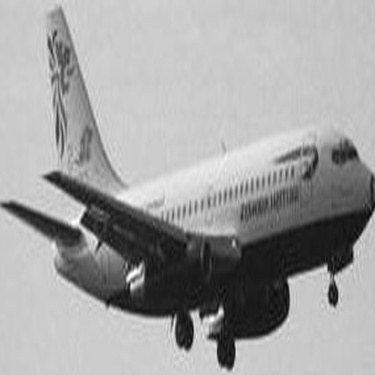airplane: (4, 1, 373, 373)
